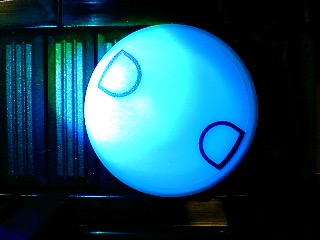MIPO2: (83, 23, 259, 197)
